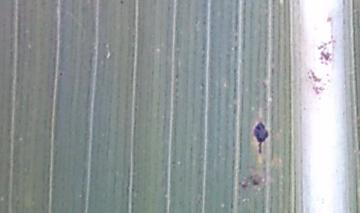tarspot: (250, 119, 272, 159), (249, 173, 264, 191), (238, 180, 249, 192), (55, 68, 66, 80)
